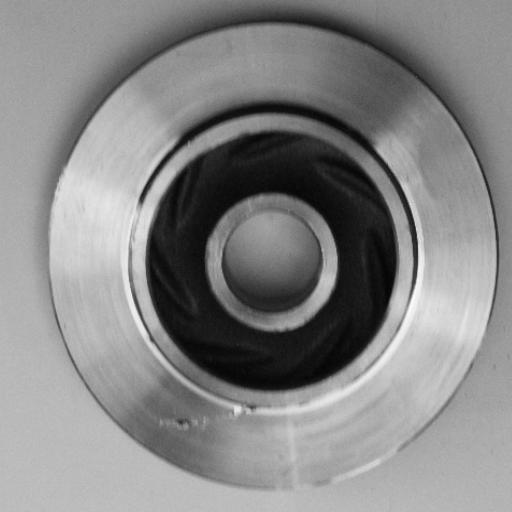crack: (150, 392, 271, 443)
unpolished_casting: (47, 18, 502, 493)
